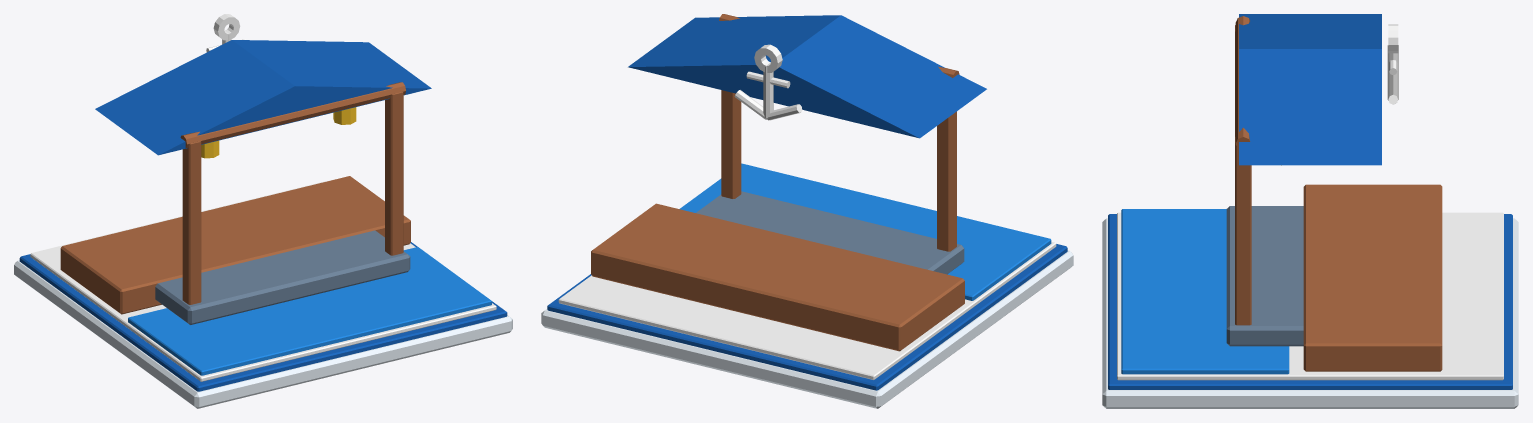
The model's file is Harbor_Stage4_v002.fbx.
The picture shows the model from 3 angles, left to right: view 1: azimuth 30°, elevation 25°; view 2: azimuth 150°, elevation 25°; view 3: azimuth 270°, elevation 25°; orthographic projection. The views are drawn at different scales.
Parts seen in each view (by area): view 1: FixedShell, EffectPartMesh; view 2: FixedShell; view 3: FixedShell.
Boxes of the visible parts, x1,y1,x2,y2 form: FixedShell: [14, 14, 512, 408]; EffectPartMesh: [201, 107, 356, 158]; FixedShell: [541, 14, 1073, 408]; FixedShell: [1102, 14, 1518, 408].
Bounding box in the file's own units: 186 × 147 × 186.
